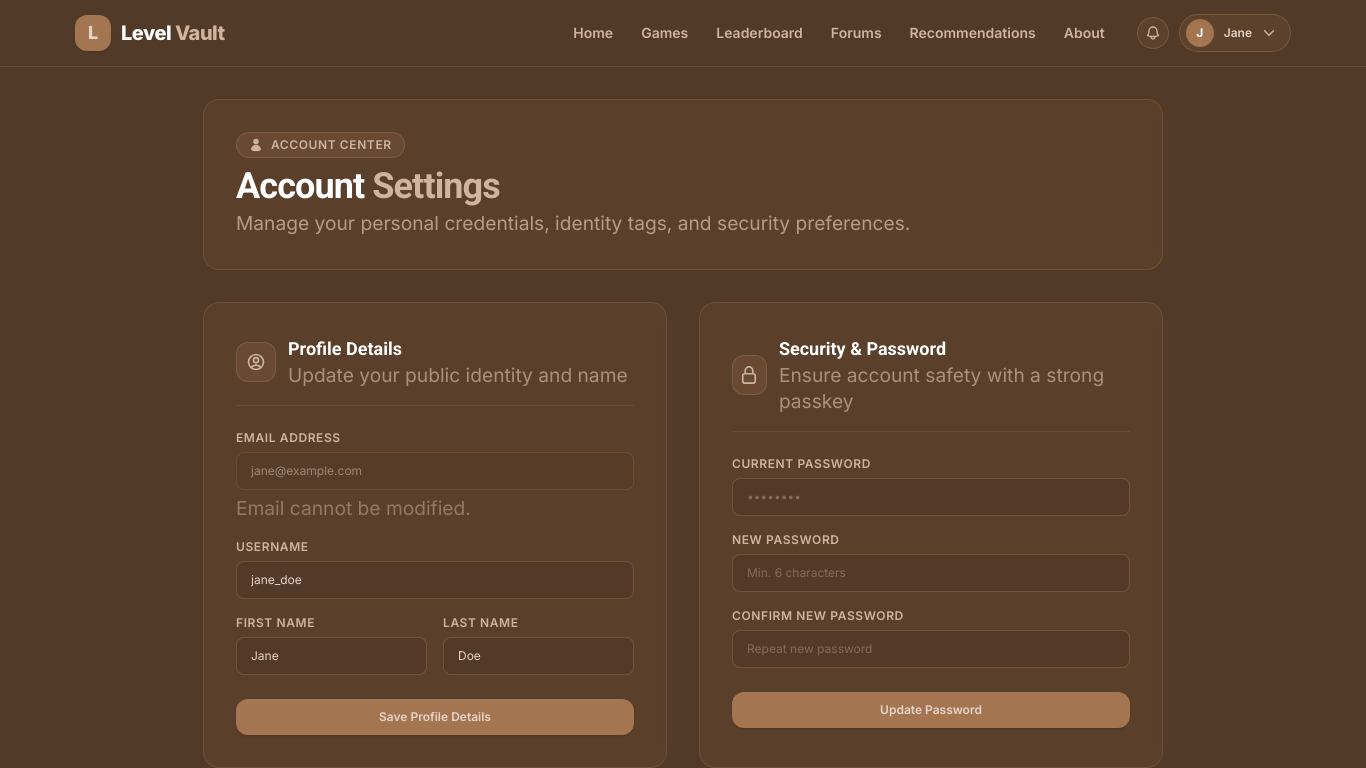
Test case: ProfilePage › shows a client-side error when the new password is too short
The width and height of the screenshot is (1366, 768).
In the password field labelled "Current Password": (931, 497) [732, 478, 1130, 516], type "oldpass1"
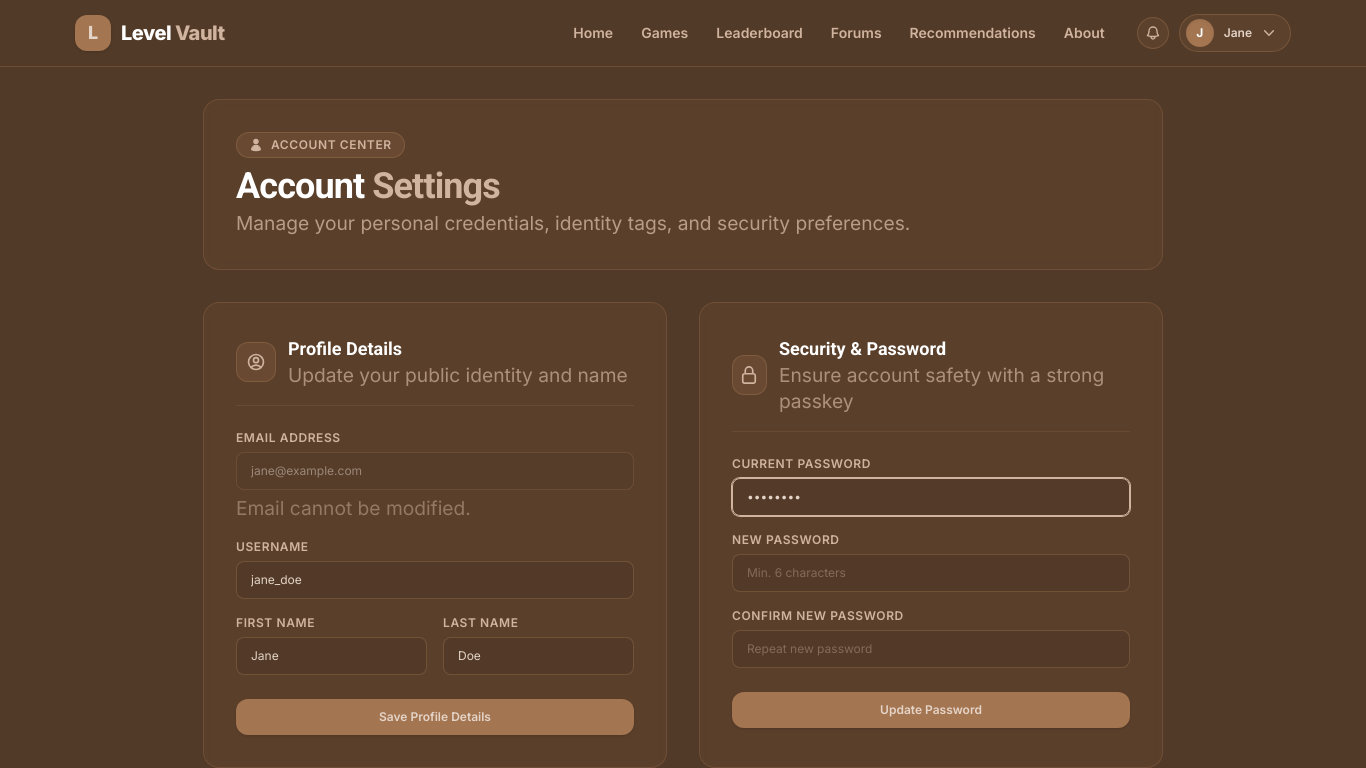
In the password field labelled "New Password": (931, 573) [732, 554, 1130, 592], type "abc"
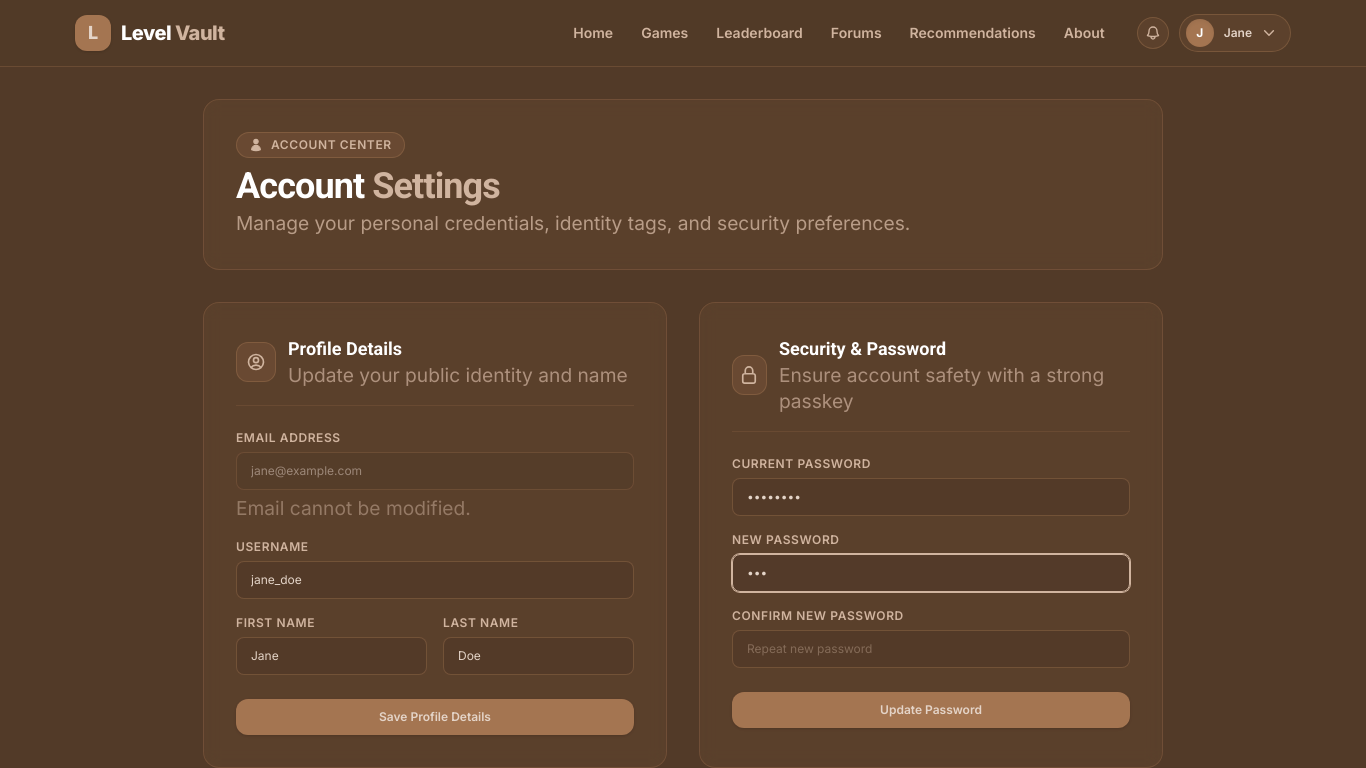
In the password field labelled "Confirm New Password": (931, 649) [732, 630, 1130, 668], type "abc"
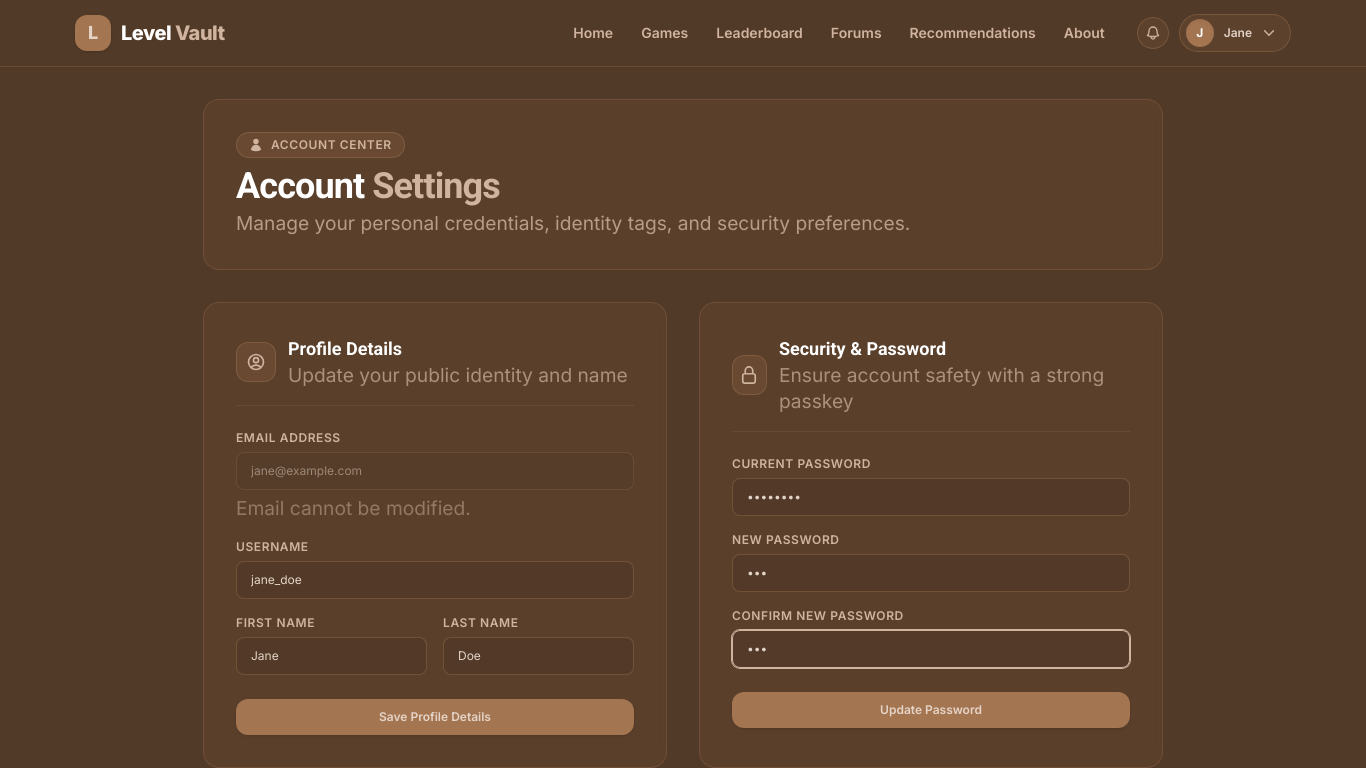
Click the button "Update Password": (931, 710) [732, 692, 1130, 728]
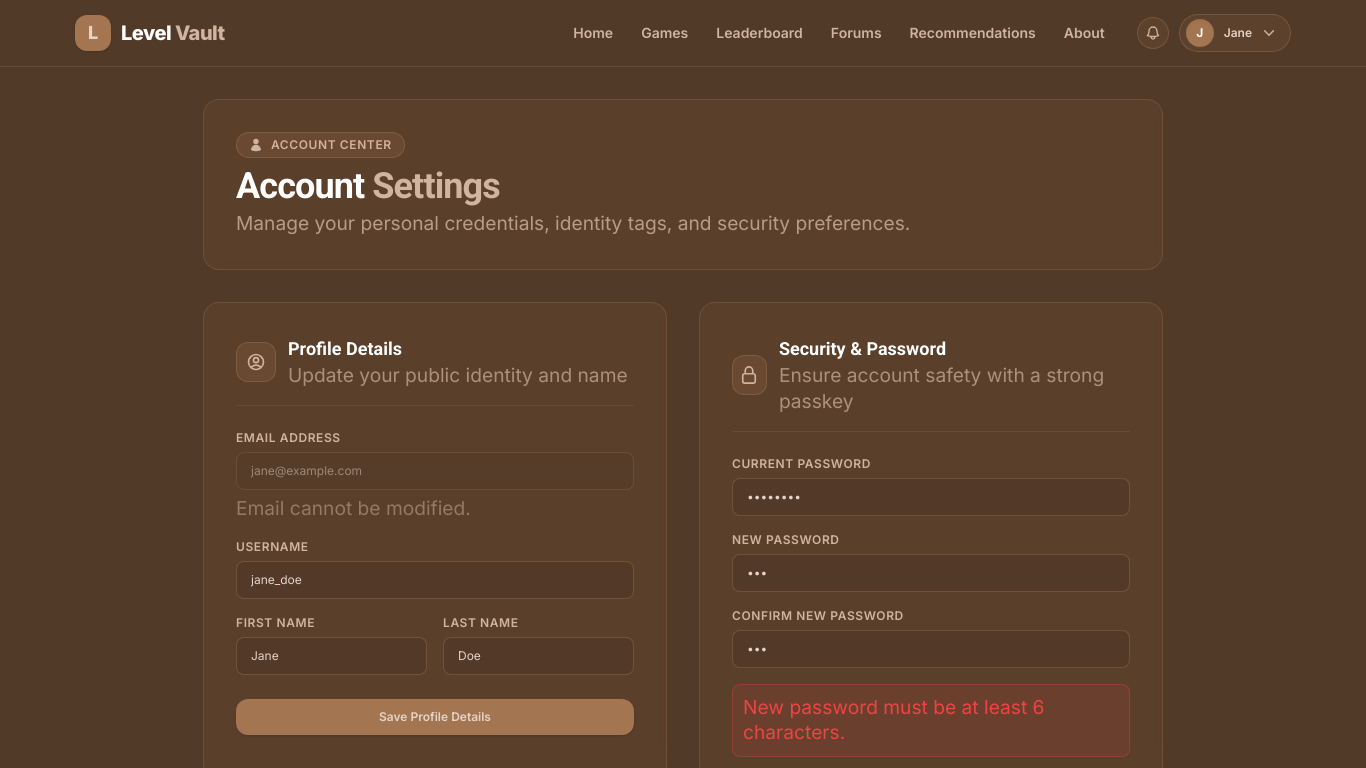
Result: the text "New password must be at least 6 characters." is shown at [732, 684, 1130, 757]
